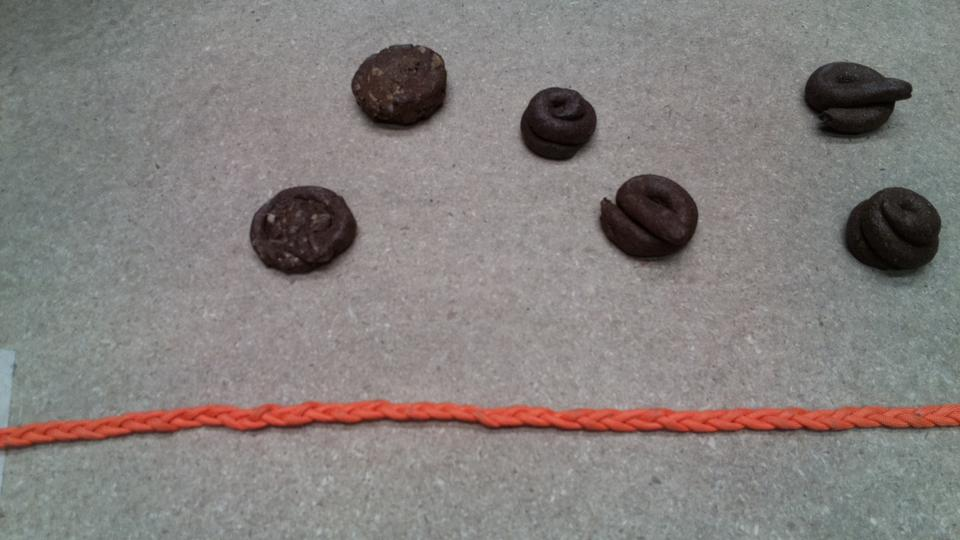poop: (833, 171, 950, 281), (246, 183, 365, 282), (593, 167, 702, 266), (800, 59, 922, 142), (351, 42, 451, 132), (514, 84, 608, 168)
rope: (264, 388, 960, 447), (1, 403, 282, 453)
